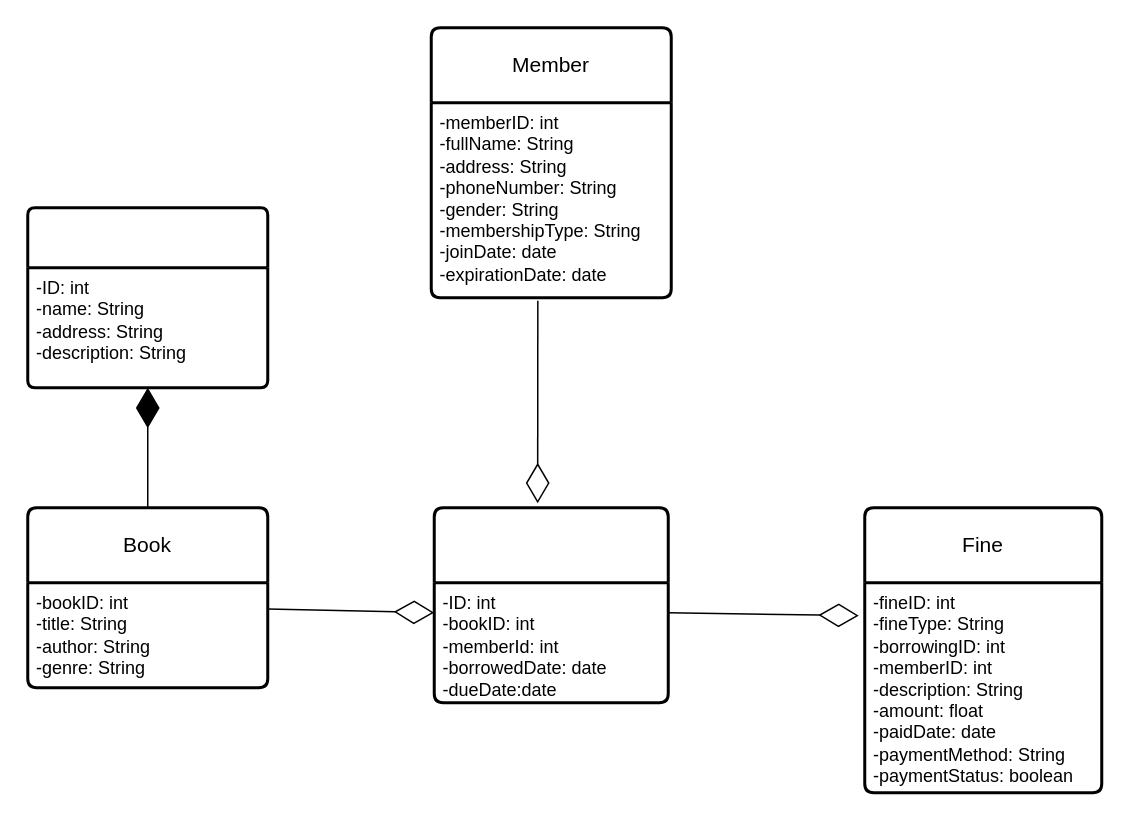
Some shapes in this 1128 by 819 pixel diagram are drawn without their labels. The shapes that lost their labels are listed below. From the top down, each one's box as (x1, y1, x2, y2) in pixels, then its label:
(26, 206, 268, 388): Library
(432, 506, 669, 704): Borrowing
